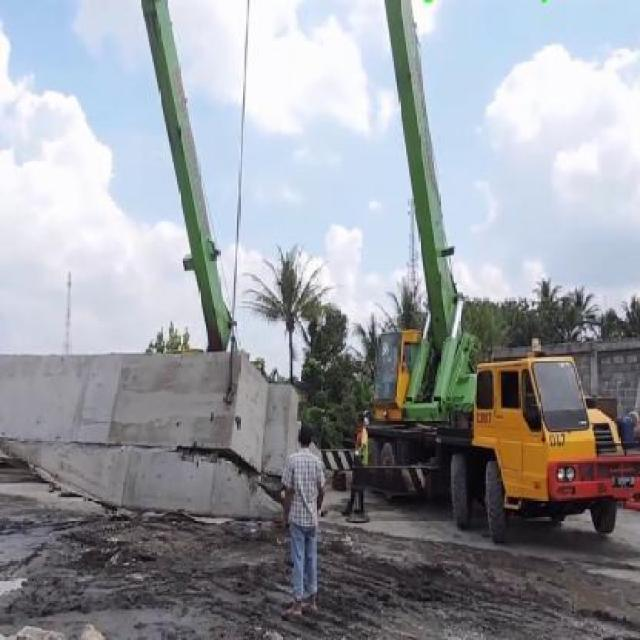Mobile Crane: (346, 0, 636, 534)
